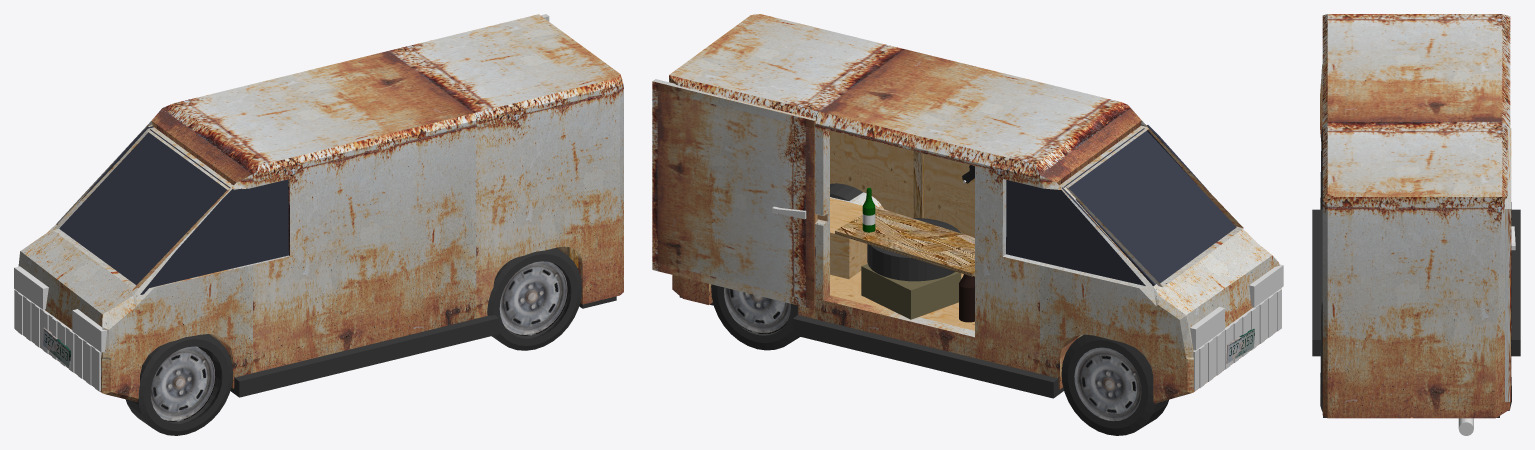
File: car.fbx
3 renders of one model, left to right at view 1: azimuth 30°, elevation 25°; view 2: azimuth 150°, elevation 25°; view 3: azimuth 270°, elevation 25°, orthographic. The views are drawn at different scales.
Visible parts, largest first — view 1: Cube.008, car window, Cylinder.008, Cylinder.010, Cube.001, Cube.014, Cube.011, Cube.012, Cube.003; view 2: Cube.008, Cube.023, car window, Cylinder.003, Cube.001, plywood table, Cylinder.004, box, Cube.014, random block, tire, Cube.011 (+3 smaller); view 3: Cube.008, Cube.001, Cube.023, Cylinder.010, Cylinder.
Boxes of the visible parts, x1=… form: Cube.008: x1=15, y1=14, x2=623, y2=401; car window: x1=59, y1=126, x2=288, y2=294; Cylinder.008: x1=125, y1=334, x2=233, y2=435; Cylinder.010: x1=487, y1=247, x2=582, y2=350; Cube.001: x1=230, y1=315, x2=498, y2=397; Cube.014: x1=14, y1=289, x2=101, y2=391; Cube.011: x1=14, y1=266, x2=48, y2=309; Cube.012: x1=72, y1=309, x2=106, y2=352; Cube.003: x1=43, y1=327, x2=70, y2=368; Cube.008: x1=669, y1=14, x2=1281, y2=403; Cube.023: x1=652, y1=79, x2=817, y2=309; car window: x1=1006, y1=124, x2=1236, y2=286; Cylinder.003: x1=1061, y1=334, x2=1168, y2=435; Cube.001: x1=792, y1=315, x2=1063, y2=398; plywood table: x1=835, y1=207, x2=974, y2=276; Cylinder.004: x1=711, y1=284, x2=799, y2=350; box: x1=861, y1=264, x2=961, y2=319; Cube.014: x1=1193, y1=289, x2=1281, y2=390; random block: x1=830, y1=197, x2=867, y2=279; tire: x1=867, y1=218, x2=960, y2=281; Cube.011: x1=1190, y1=306, x2=1224, y2=350; Cube.008: x1=1320, y1=14, x2=1510, y2=418; Cube.001: x1=1312, y1=209, x2=1520, y2=356; Cube.023: x1=1505, y1=128, x2=1515, y2=401; Cylinder.010: x1=1320, y1=302, x2=1322, y2=411; Cylinder: x1=1458, y1=418, x2=1473, y2=435.
Size of the model in its own units: 394 by 175 by 129.
